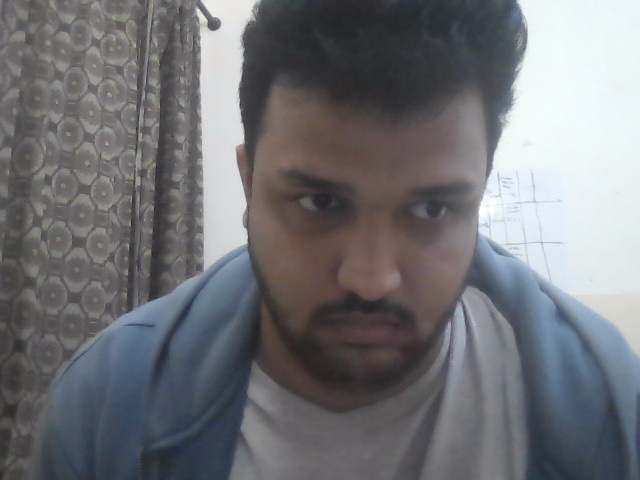awake: (147, 15, 584, 382)
